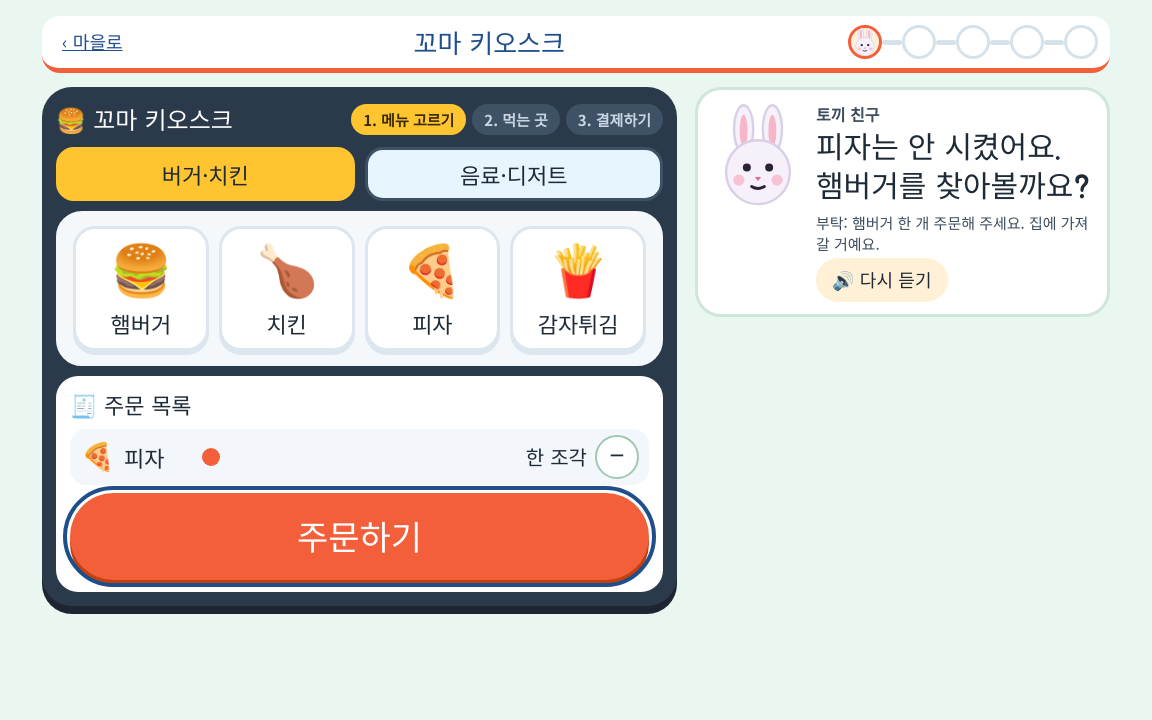
병원 놀이와 키오스크 놀이 › 키오스크: 메뉴 고르기 → 먹는 곳 → 카드 결제 → 주문 번호
Earlier steps of the test are not shown.
Expected: the text with class "line" reads "피자는 안 시켰어요. 햄버거를 찾아볼까요?", [816, 134, 1090, 203]
Click the button named "피자 하나 빼기" at [617, 457], box [595, 435, 639, 479]
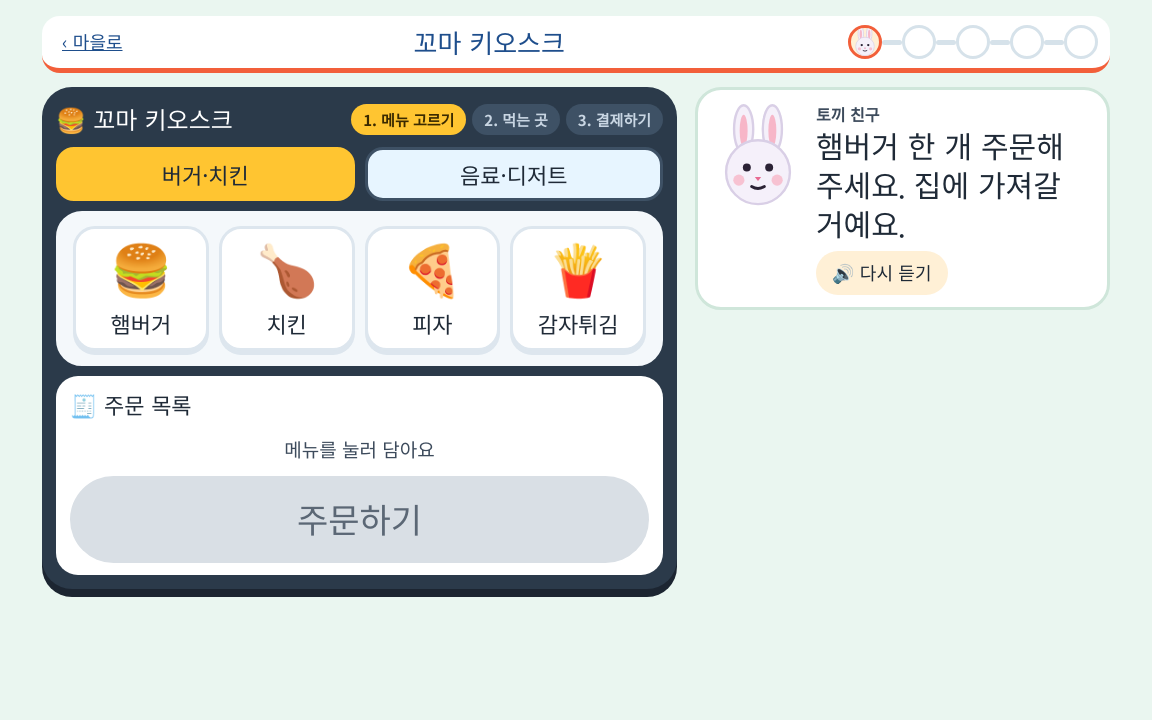
Click the button with aria-label "햄버거 담기" at [141, 288], box [73, 226, 209, 351]
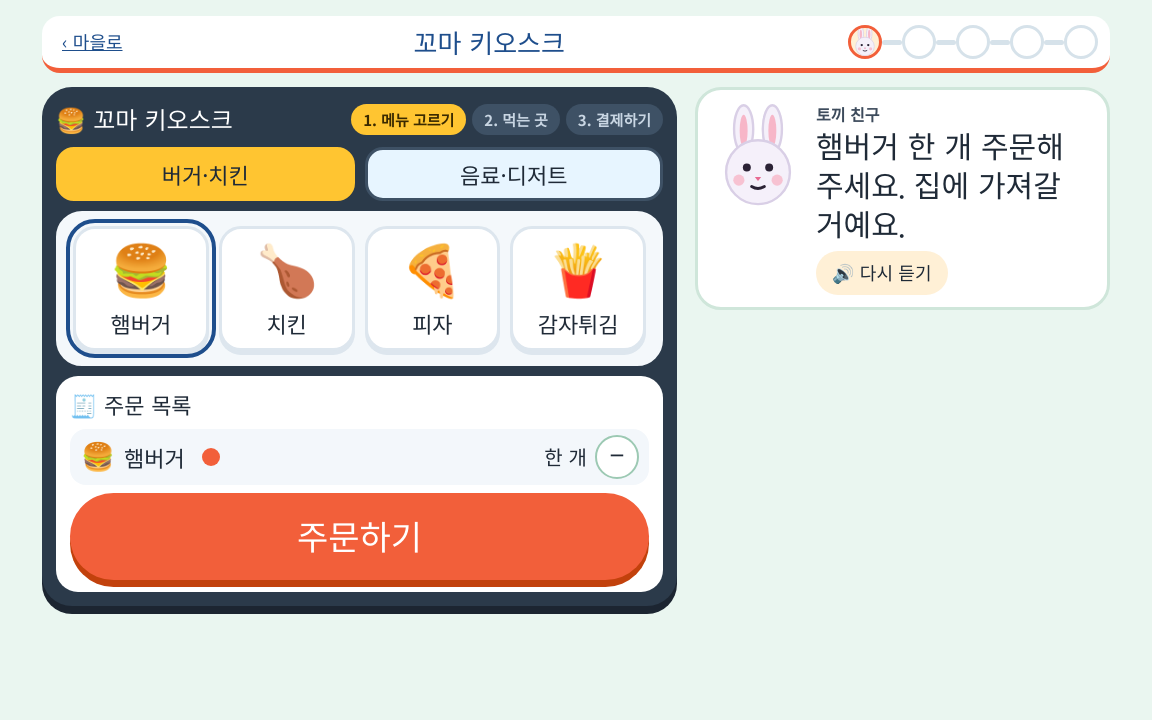
Click the button "주문하기" at [360, 536], box [70, 493, 649, 580]
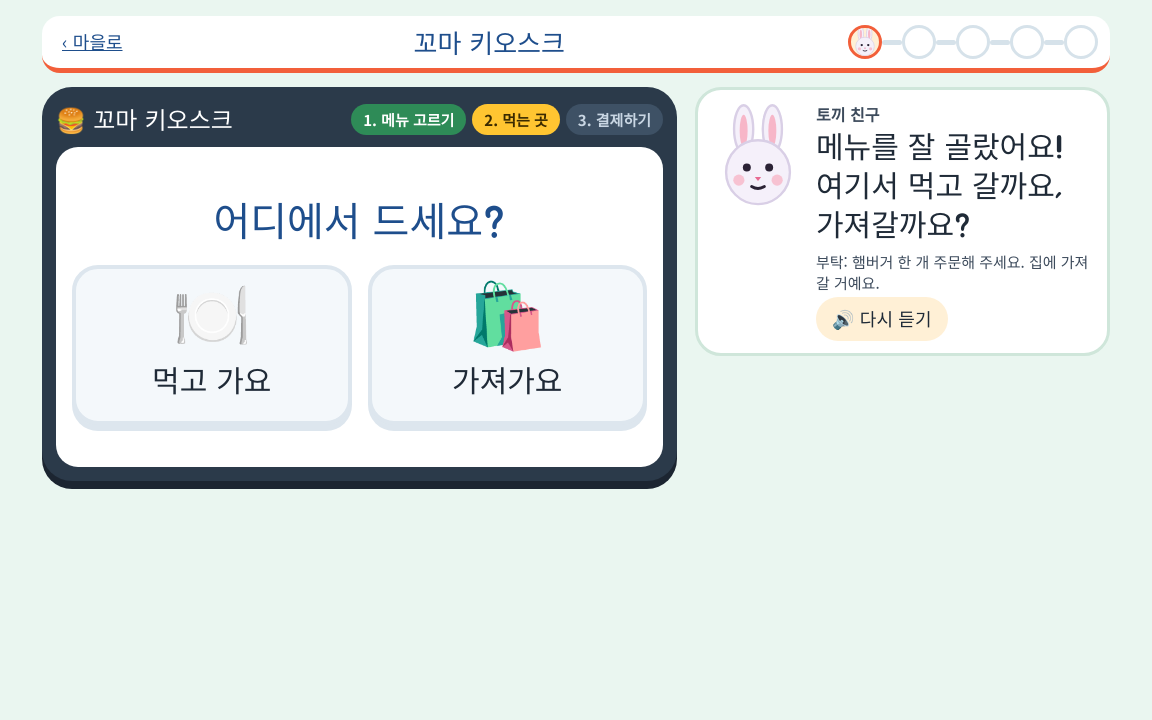
Now the text "어디에서 드세요?" is shown, box [213, 190, 506, 248]
Click the button "🍽️ 먹고 가요" at [212, 344], box [72, 264, 352, 424]
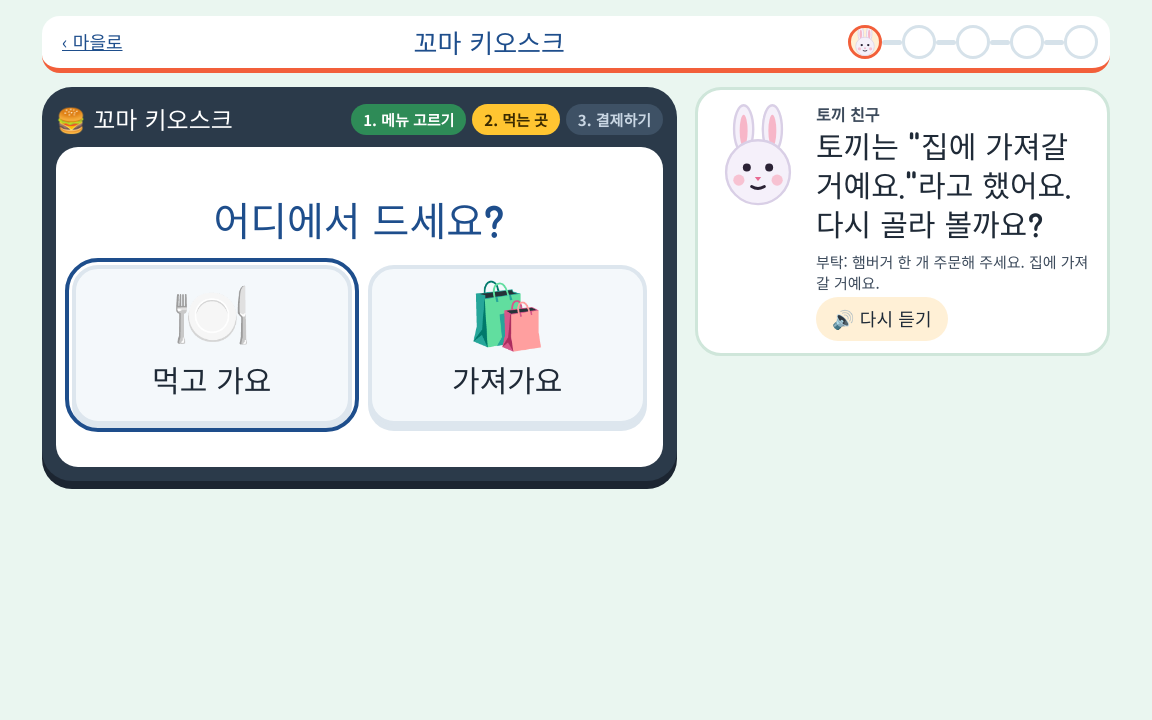
Now the text with class "line" shows "\"집에 가져갈 거예요.\"라고 했어요", box [816, 134, 1071, 242]
Click the button "🛍️ 가져가요" at [507, 344], box [368, 264, 647, 424]
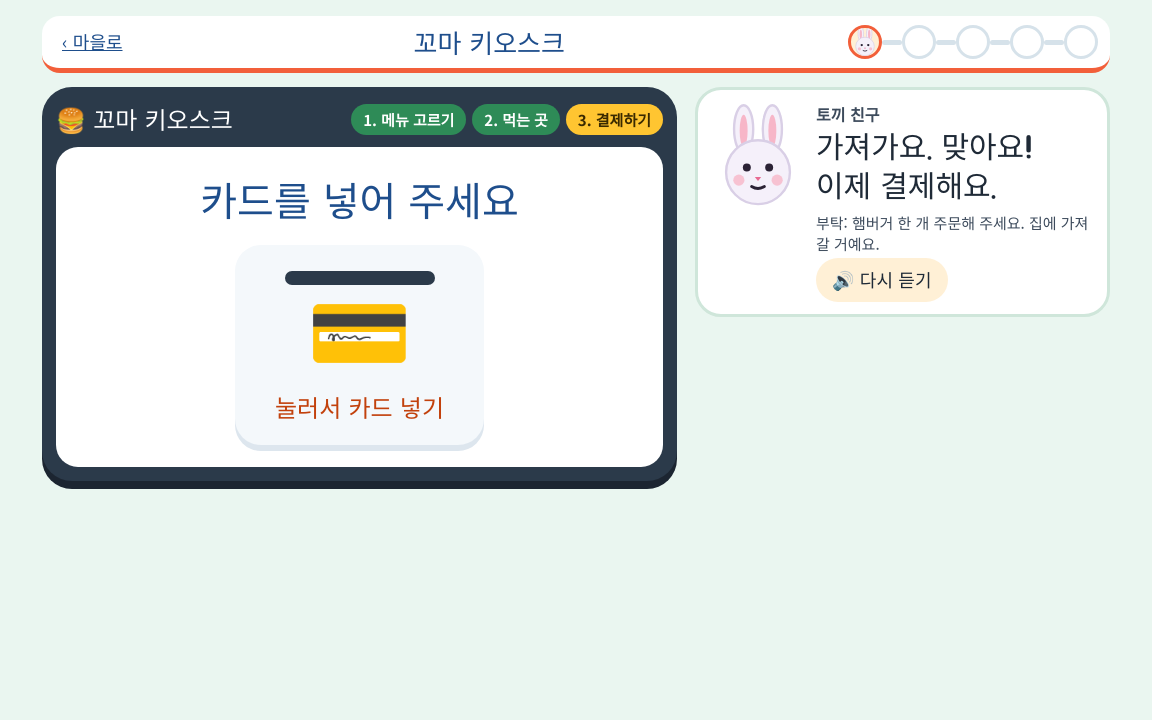
Click the button "💳 눌러서 카드 넣기" at [360, 344], box [235, 244, 484, 444]
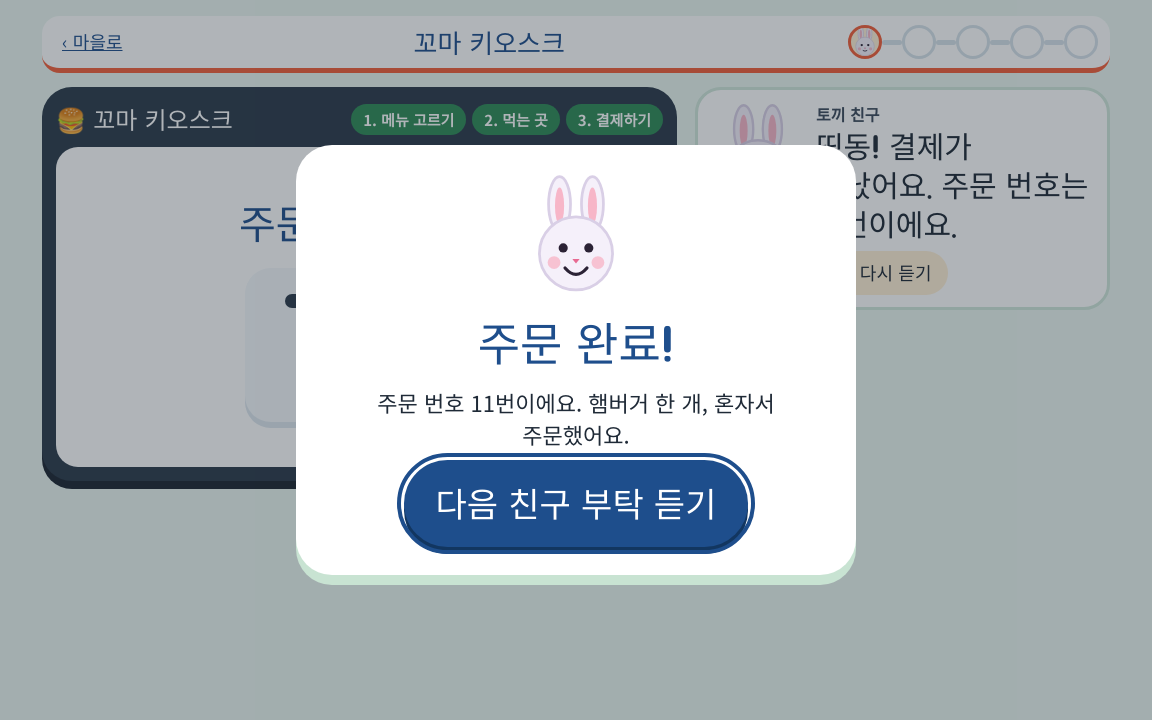
Now the dialog "주문 완료!" reads "주문 완료! 주문 번호 11번이에요. 햄버거 한 개, 혼자서 주문했어요. 다음 친구 부탁 듣기", box [377, 386, 775, 450]
